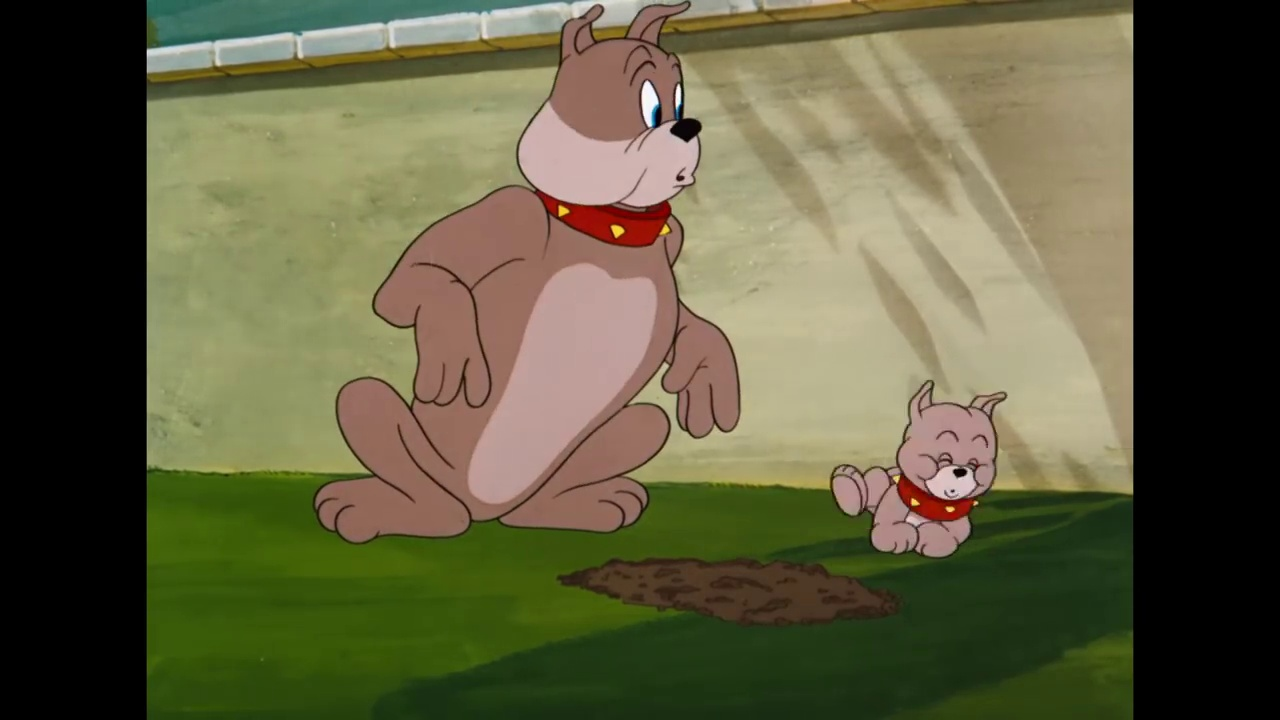spike: (510, 1, 711, 250)
